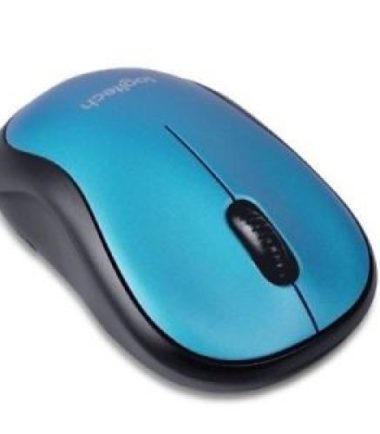logitech-mouse-m185: (1, 64, 379, 389)
